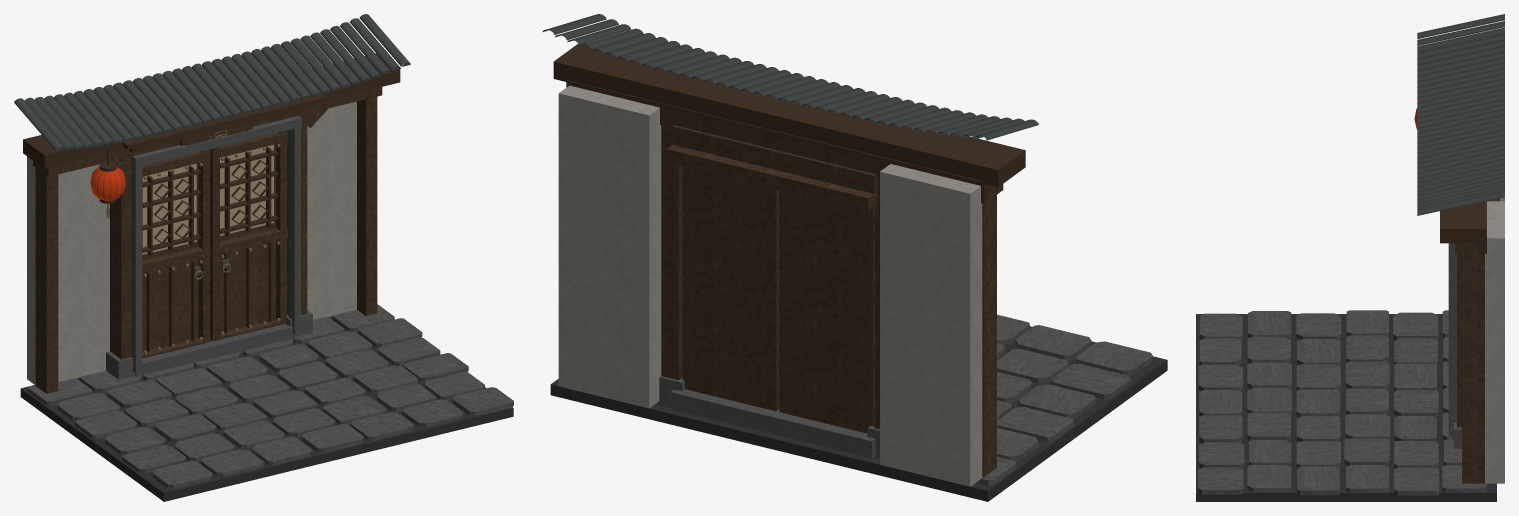
The model's file is tavern_slice_active.glb.
3 views of the same model, side by side, from view 1: azimuth 30°, elevation 25°; view 2: azimuth 150°, elevation 25°; view 3: azimuth 270°, elevation 25° (orthographic). The views are drawn at different scales.
Visible parts, largest first — view 1: Structure, Paving, Door_Right, Door_Left, Lantern; view 2: Structure, Paving, Door_Right, Door_Left; view 3: Paving, Structure.
Part boxes in pixels (x1=…): Structure: x1=14, y1=14, x2=410, y2=393; Paving: x1=20, y1=304, x2=513, y2=501; Door_Right: x1=210, y1=130, x2=287, y2=341; Door_Left: x1=142, y1=149, x2=210, y2=358; Lantern: x1=90, y1=147, x2=125, y2=218; Structure: x1=542, y1=14, x2=1038, y2=486; Paving: x1=550, y1=314, x2=1167, y2=501; Door_Right: x1=682, y1=166, x2=779, y2=411; Door_Left: x1=779, y1=189, x2=874, y2=433; Paving: x1=1196, y1=310, x2=1496, y2=501; Structure: x1=1417, y1=14, x2=1504, y2=483.
Bounding box in the file's own units: 4.35 × 3.43 × 3.1.
11 materials, 4 textured.
